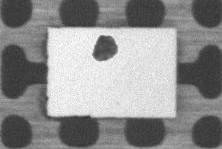DIE_INK: (136, 22, 180, 42)
